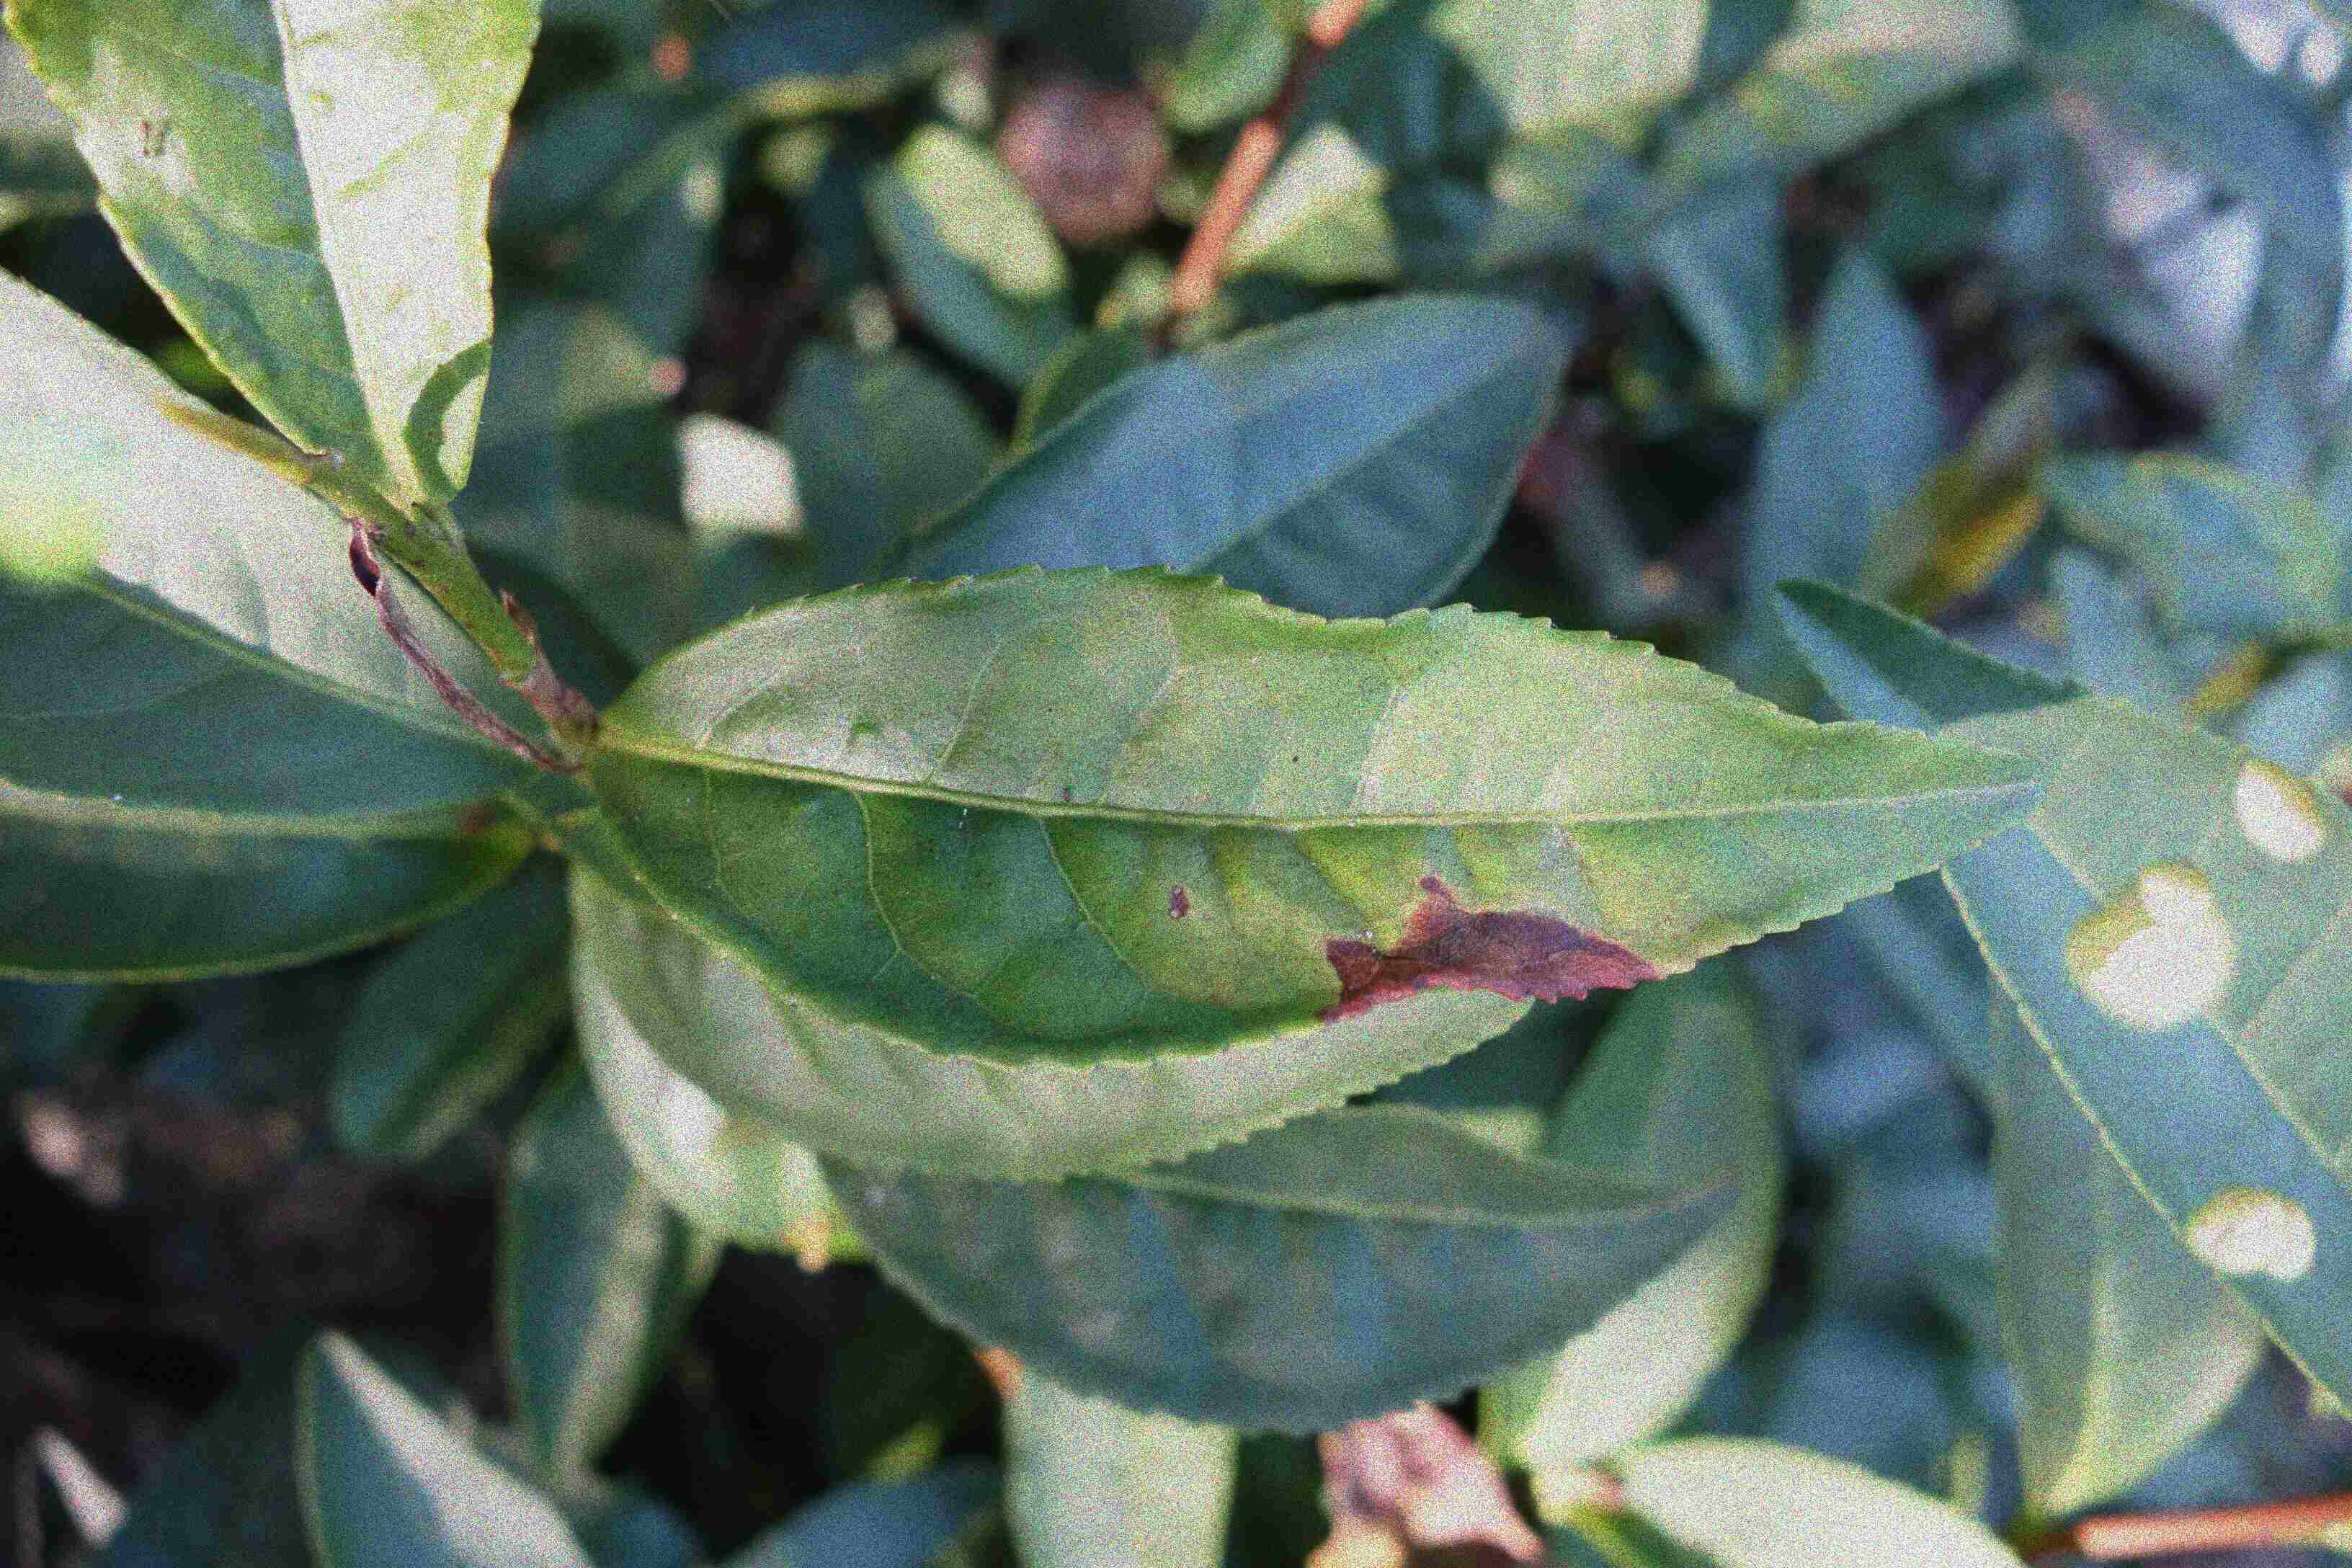chabing_high: (1774, 567, 2348, 1424)
tanju_high: (584, 551, 2047, 1076)
